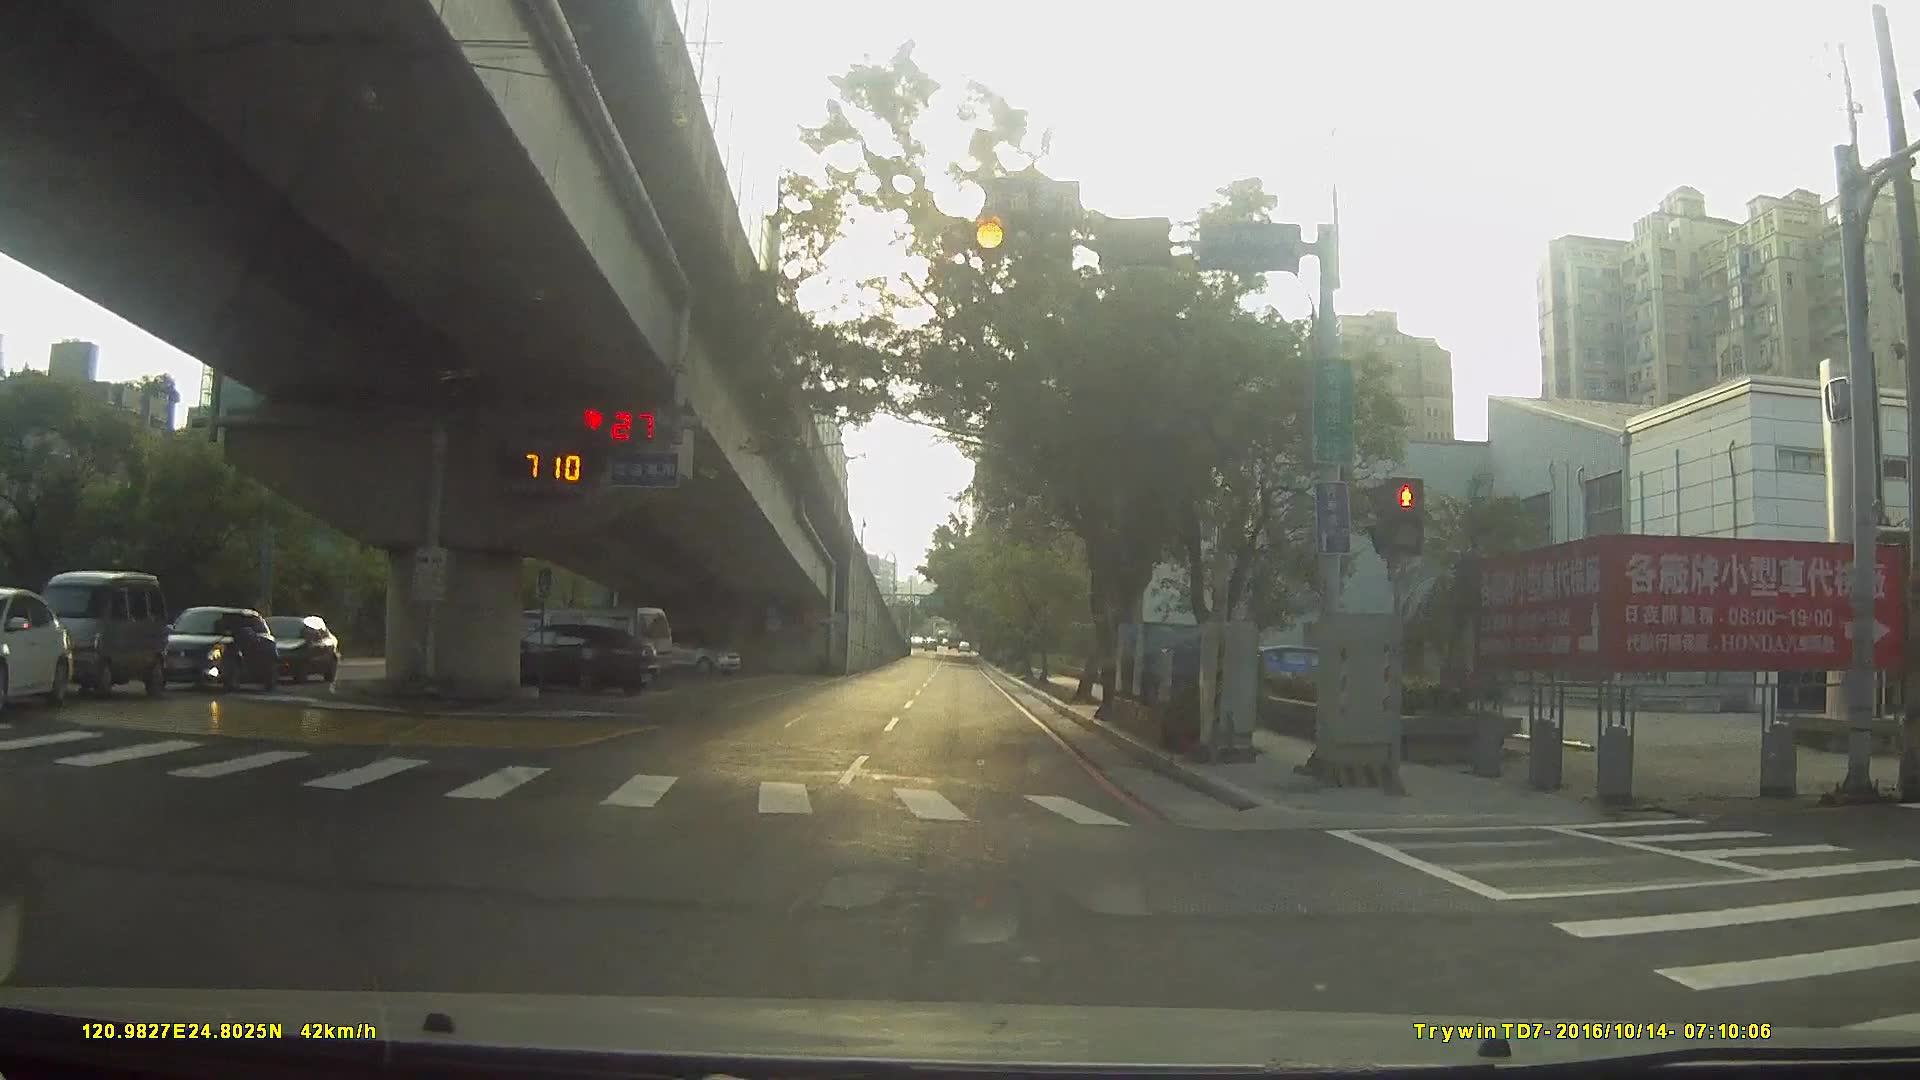vehicle: (20, 568, 160, 702), (500, 607, 673, 686), (477, 618, 654, 695), (141, 604, 272, 696), (1, 591, 87, 709), (233, 611, 345, 682), (644, 632, 741, 676)
